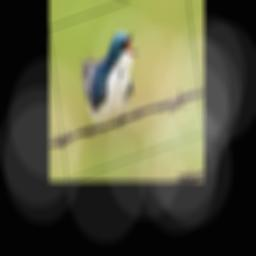Swallow: (77, 23, 148, 139)
